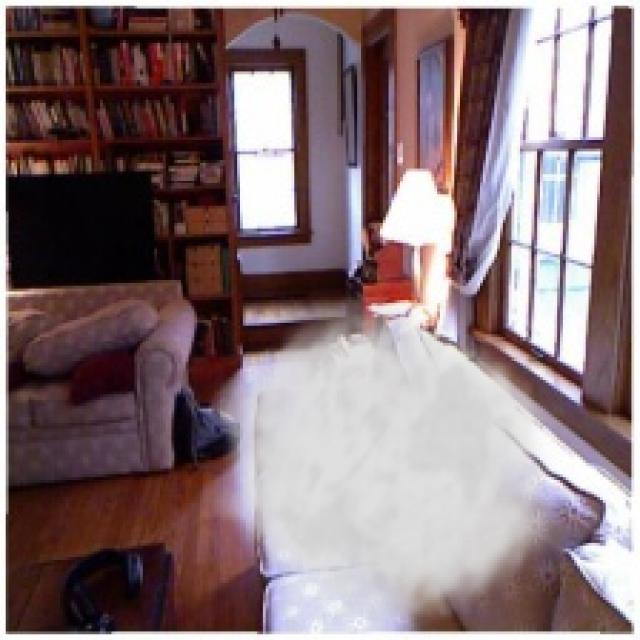smoke: (212, 286, 568, 637)
